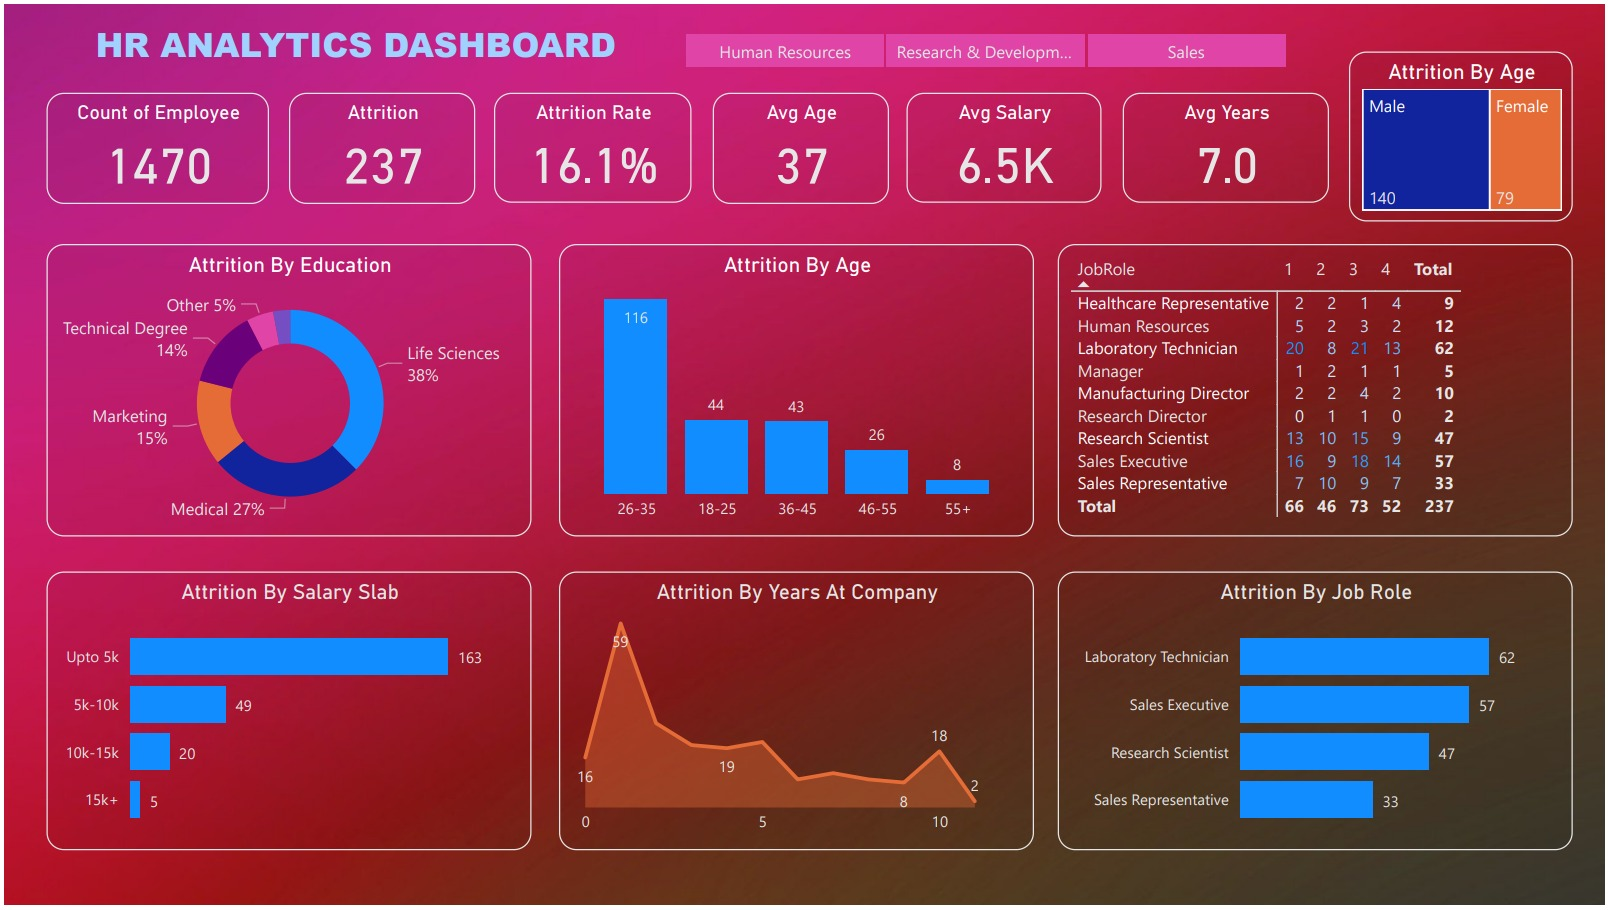

This screenshot's page, from the dashboard's own definition file:
{"tool":"powerbi","page":{"name":"Page 1","canvas":[1280,720],"ordinal":0},"visuals":[{"type":"card","title":"Count of Employee","fields":{"Values":["CountNonNull(HR_Analytics.EmpID)"]},"box":[33.6,71.5,177.9,88.3],"z":0},{"type":"card","title":"Attrition","fields":{"Values":["Sum(HR_Analytics.AttritionCount)"]},"box":[228.4,71.5,148.5,88.3],"z":1000},{"type":"card","title":"Attrition Rate","fields":{"Values":["HR_Analytics.AtritionRate"]},"box":[392,71.2,158,88],"z":2000},{"type":"card","title":"Avg Age","fields":{"Values":["Avg(HR_Analytics.Age)"]},"box":[566.8,71.2,141.1,89.2],"z":3000},{"type":"card","title":"Avg Salary","fields":{"Values":["Avg(HR_Analytics.MonthlyIncome)"]},"box":[722.4,71.2,155.6,88],"z":4000},{"type":"card","title":"Avg Years","fields":{"Values":["Avg(HR_Analytics.YearsAtCompany)"]},"box":[894.9,71.2,165.2,88],"z":5000},{"type":"donutChart","title":"Attrition By Education","fields":{"Category":["HR_Analytics.EducationField"],"Y":["Sum(HR_Analytics.AttritionCount)"]},"box":[33.6,191.9,388.1,234],"z":6000},{"type":"columnChart","title":"Attrition By Age ","fields":{"Category":["HR_Analytics.AgeGroup"],"Y":["Sum(HR_Analytics.AttritionCount)"]},"box":[444.1,191.9,379.7,234],"z":7000},{"type":"pivotTable","fields":{"Rows":["HR_Analytics.JobRole"],"Columns":["HR_Analytics.JobSatisfaction"],"Values":["Sum(HR_Analytics.AttritionCount)"]},"box":[843.4,191.9,411.9,234],"z":8000},{"type":"barChart","title":"Attrition By Salary Slab","fields":{"Category":["HR_Analytics.SalarySlab"],"Y":["Sum(HR_Analytics.AttritionCount)"]},"box":[33.6,453.9,388.1,222.8],"z":9000},{"type":"barChart","title":"Attrition By Job Role","fields":{"Y":["Sum(HR_Analytics.AttritionCount)"],"Category":["HR_Analytics.JobRole"]},"box":[843.4,453.9,411.9,222.8],"z":10000},{"type":"areaChart","title":"Attrition By Years At Company","fields":{"Category":["HR_Analytics.YearsAtCompany"],"Y":["Sum(HR_Analytics.AttritionCount)"]},"box":[444.1,453.9,379.7,222.8],"z":11000},{"type":"treemap","title":"Attrition By Age ","fields":{"Group":["HR_Analytics.Gender"],"Values":["Sum(HR_Analytics.AttritionCount)"]},"box":[1076,37.8,179.3,135.9],"z":12000},{"type":"slicer","fields":{"Values":["HR_Analytics.Department"]},"box":[519.8,16.8,529.6,40.6],"z":13000},{"type":"textbox","box":[33.8,8.4,504.1,57.9],"z":14000}]}

Visuals, with their boxes in screenshot pixels (x1, y1, x2, y2), scaled from the page's 1280x720 canvas onto the 1608x910 screenshot:
"Count of Employee" card: [left=42, top=90, right=266, bottom=202]
"Attrition" card: [left=287, top=90, right=473, bottom=202]
"Attrition Rate" card: [left=492, top=90, right=691, bottom=201]
"Avg Age" card: [left=712, top=90, right=889, bottom=203]
"Avg Salary" card: [left=908, top=90, right=1103, bottom=201]
"Avg Years" card: [left=1124, top=90, right=1332, bottom=201]
"Attrition By Education" donutChart: [left=42, top=243, right=530, bottom=538]
"Attrition By Age " columnChart: [left=558, top=243, right=1035, bottom=538]
pivotTable - HR_Analytics.JobRole x HR_Analytics.JobSatisfaction: [left=1060, top=243, right=1577, bottom=538]
"Attrition By Salary Slab" barChart: [left=42, top=574, right=530, bottom=855]
"Attrition By Job Role" barChart: [left=1060, top=574, right=1577, bottom=855]
"Attrition By Years At Company" areaChart: [left=558, top=574, right=1035, bottom=855]
"Attrition By Age " treemap: [left=1352, top=48, right=1577, bottom=220]
slicer - HR_Analytics.Department: [left=653, top=21, right=1318, bottom=73]
textbox: [left=42, top=11, right=676, bottom=84]
